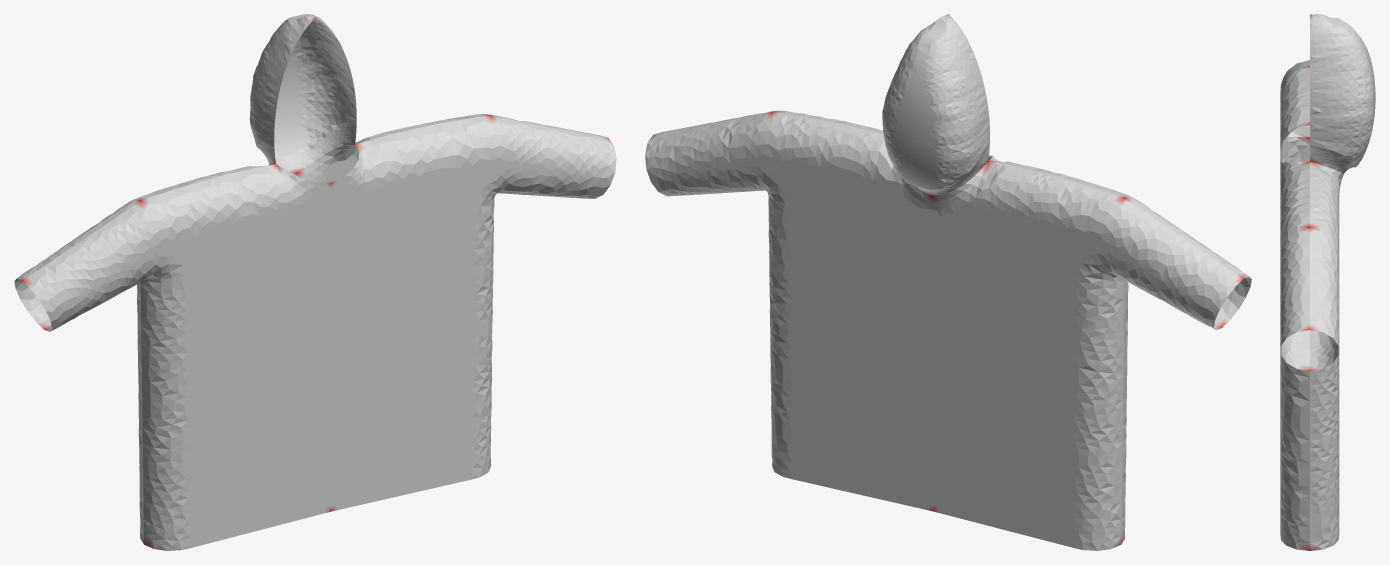
File: mesh.obj.key.obj
3 views of the same model, side by side, from view 1: azimuth 30°, elevation 25°; view 2: azimuth 150°, elevation 25°; view 3: azimuth 270°, elevation 25° (orthographic). The views are drawn at different scales.
Bounding box in the file's own units: 1.07 × 0.8449 × 0.1592.
